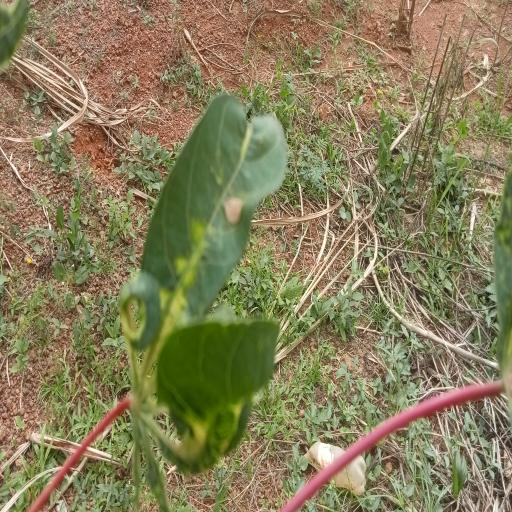Cassava_Mosaic: (120, 92, 290, 512)
